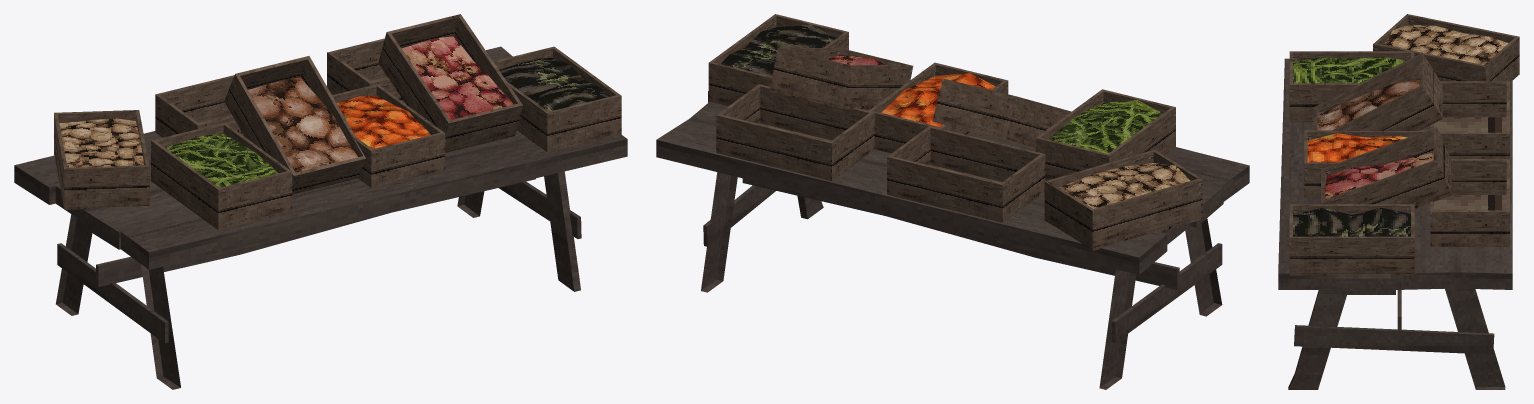
The model's file is table_prebuild.glb.
3 views of the same model, side by side, from view 1: azimuth 30°, elevation 25°; view 2: azimuth 150°, elevation 25°; view 3: azimuth 270°, elevation 25° (orthographic). The views are drawn at different scales.
Parts seen in each view (by area): view 1: table_prebuild; view 2: table_prebuild; view 3: table_prebuild.
Part boxes in pixels (x1,y1,x2,y2): table_prebuild: (14, 14, 627, 389); table_prebuild: (656, 14, 1249, 389); table_prebuild: (1278, 14, 1519, 389).
Bounding box in the file's own units: 3.18 × 1.39 × 1.42.
2 materials, 2 textured.
